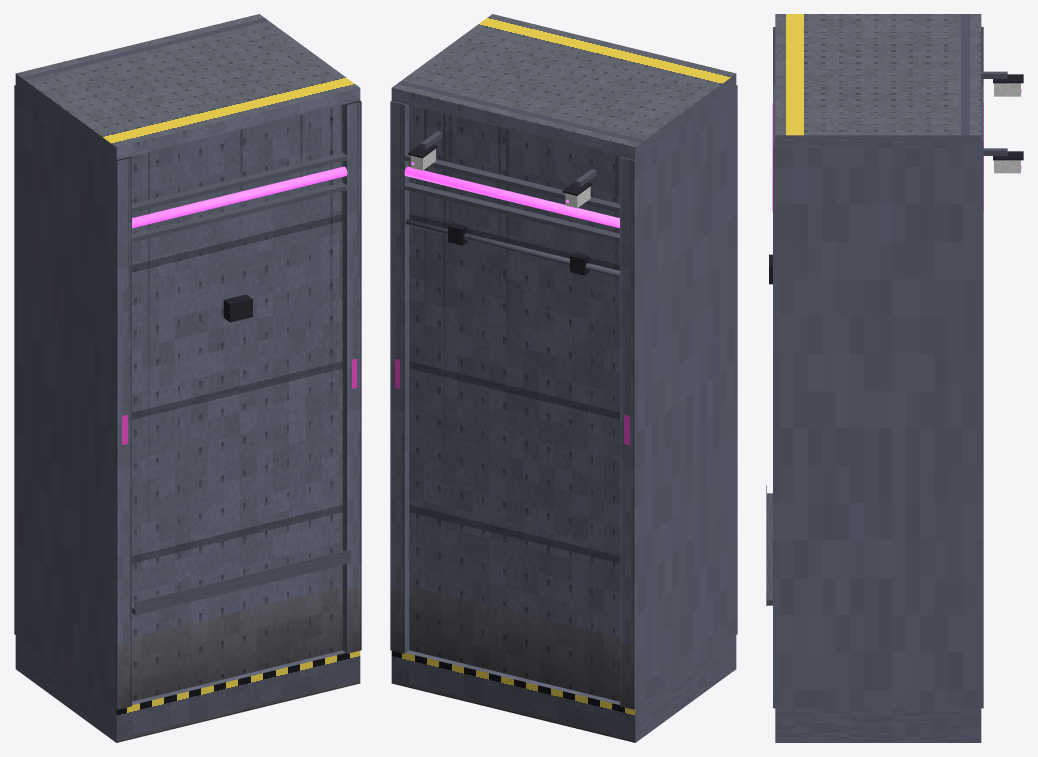
The model's file is p_jb_wall.glb.
The picture shows the model from 3 angles, left to right: view 1: azimuth 30°, elevation 25°; view 2: azimuth 150°, elevation 25°; view 3: azimuth 270°, elevation 25°; orthographic projection. The views are drawn at different scales.
Parts seen in each view (by area): view 1: v0_lod0; view 2: v0_lod0, v2_lod0; view 3: v0_lod0, v2_lod0.
Part boxes in pixels (x1=…): v0_lod0: x1=14, y1=14, x2=361, y2=742; v0_lod0: x1=390, y1=14, x2=737, y2=742; v2_lod0: x1=562, y1=169, x2=596, y2=208; v0_lod0: x1=766, y1=14, x2=1023, y2=742; v2_lod0: x1=981, y1=71, x2=1023, y2=96.
Size of what is drawn, in the model's own units: 6 by 14 by 5.38.
3 materials, 1 textured.
